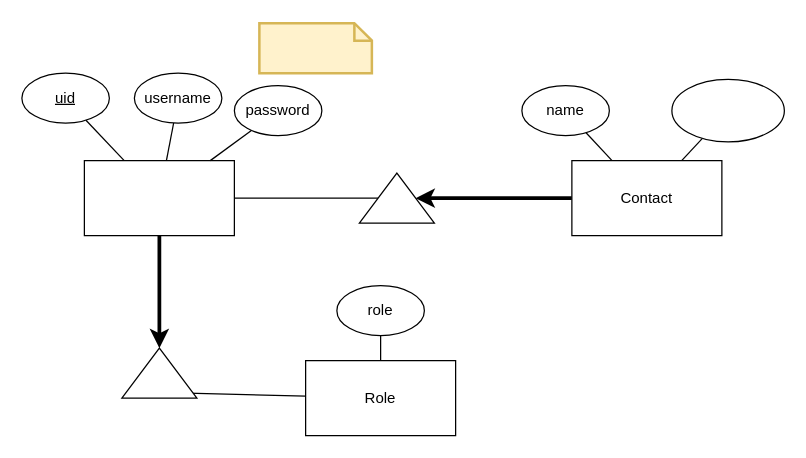
This 806x458 diagram has some shape labels left out. Here are the shapes that lost their labels. From the top down, the box of each, then its label:
(258, 21, 372, 74): Hashed + Salted
(671, 78, 784, 142): additionalFields
(83, 159, 234, 236): User
